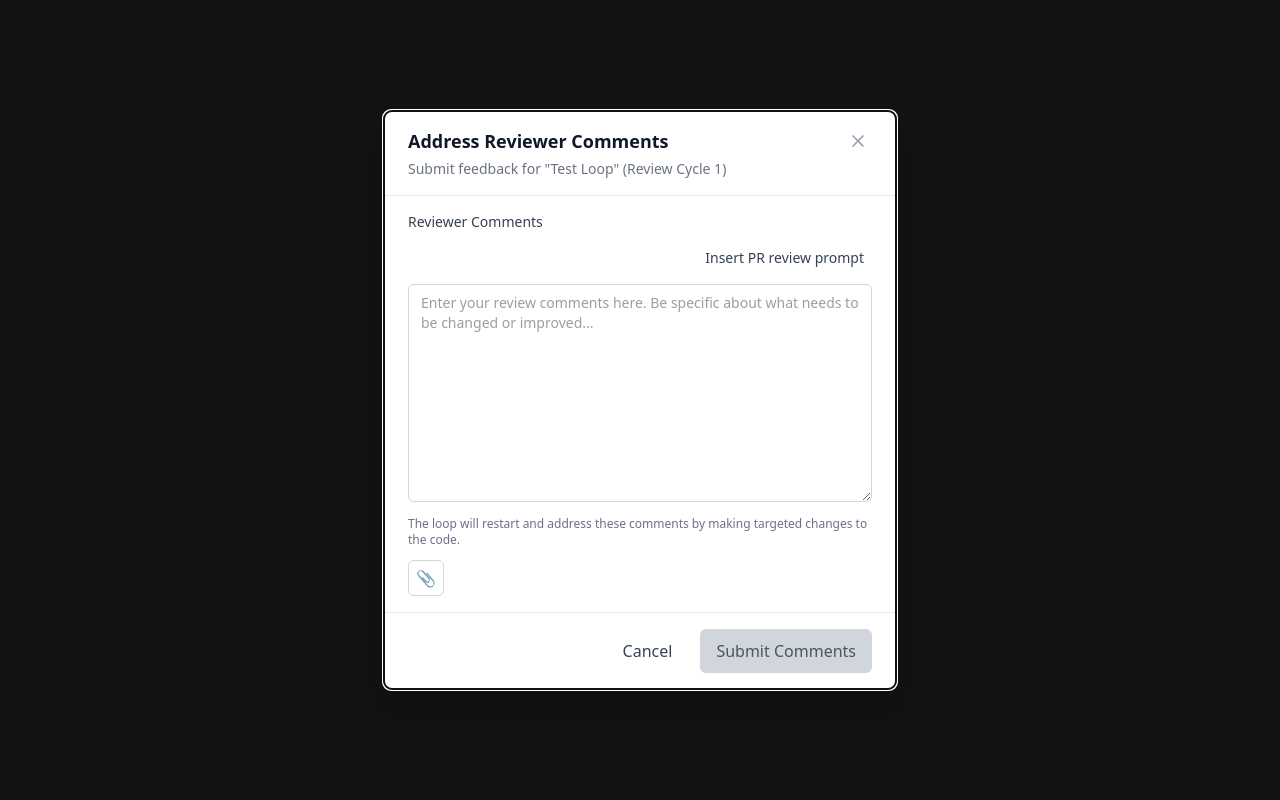
Test case: AddressCommentsModal › submission › inserts the canned PR review prompt into the textarea
The image size is (1280, 800).
Click the button "Insert PR review prompt".
click(785, 258)  # box [697,240,872,276]
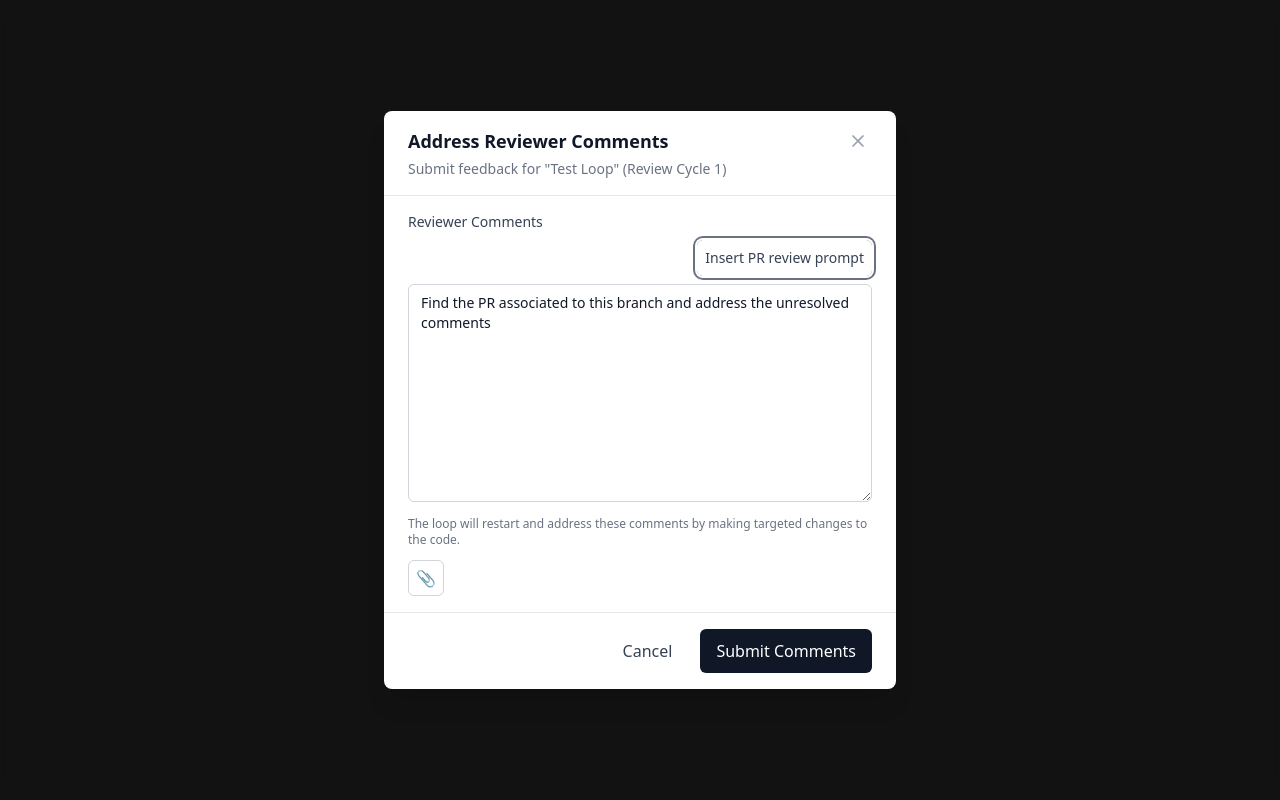
Now the text box labelled "Reviewer Comments" holds "Find the PR associated to this branch and address the unresolved comments", box [408,284,872,502]
